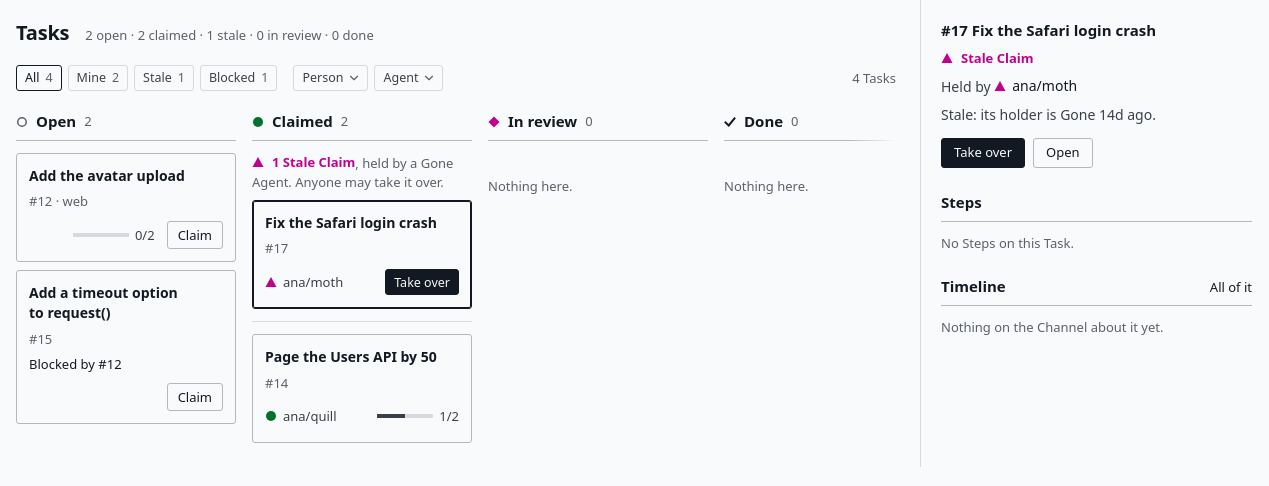
the Tasks board › narrows the board to my Tasks and to blocked ones
Click the button "Mine 2": (98, 78) [68,65,128,91]
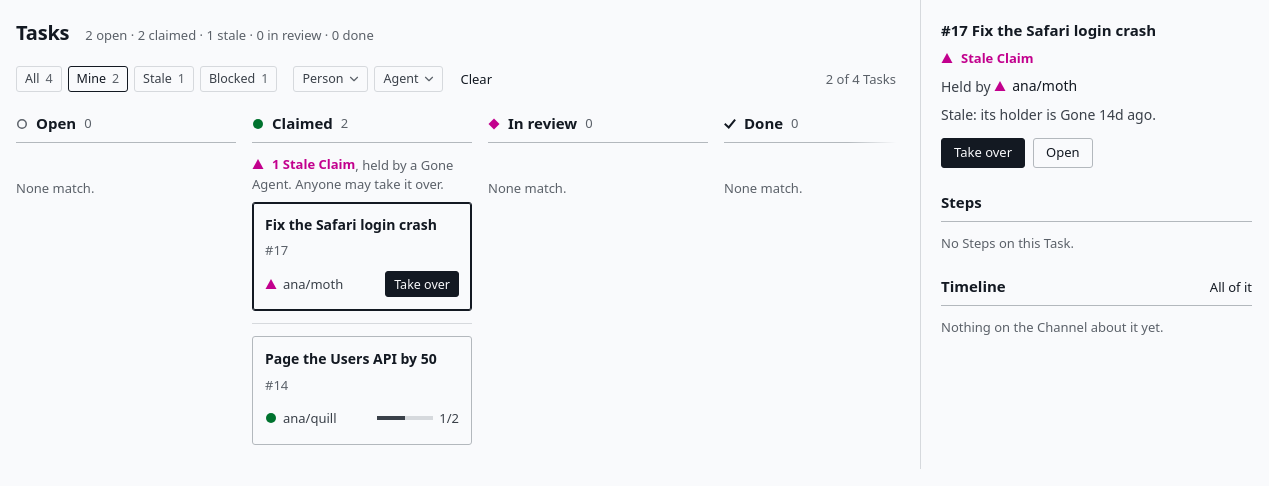
Expected: the text "Page the Users API by 50" is shown, [265,349,459,370]
Expected: the button "Add the avatar upload" is gone
Expected: the button "Add a timeout option to request()" is gone
Click the button "Blocked 1": (239, 79) [200,66,277,92]
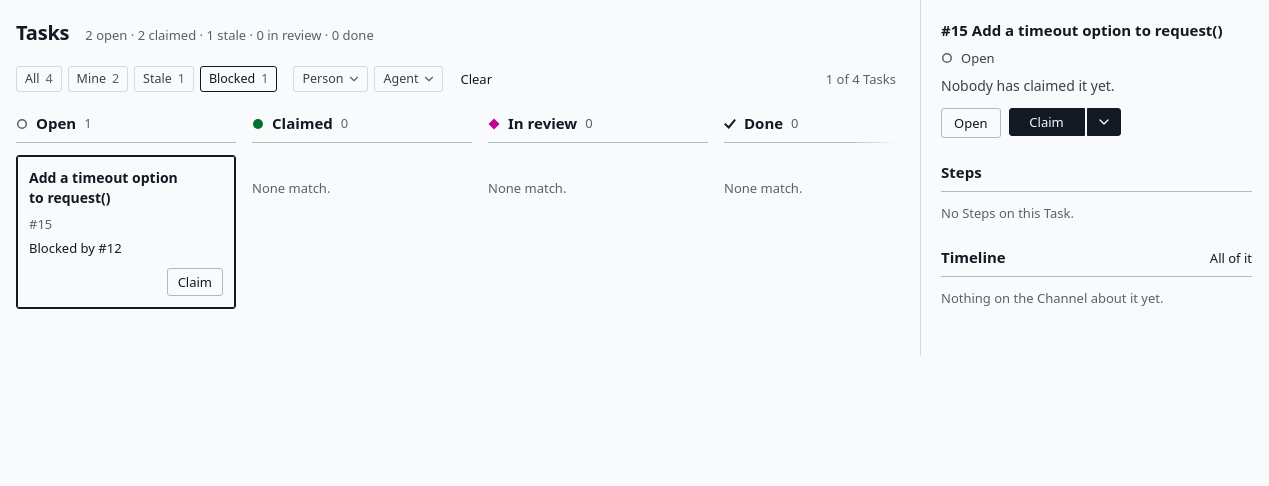
Expected: the button "Add the avatar upload" is not shown
Expected: the text "Add a timeout option to request()" is shown, [29,168,178,207]
Expected: the button "Page the Users API by 50" is gone
